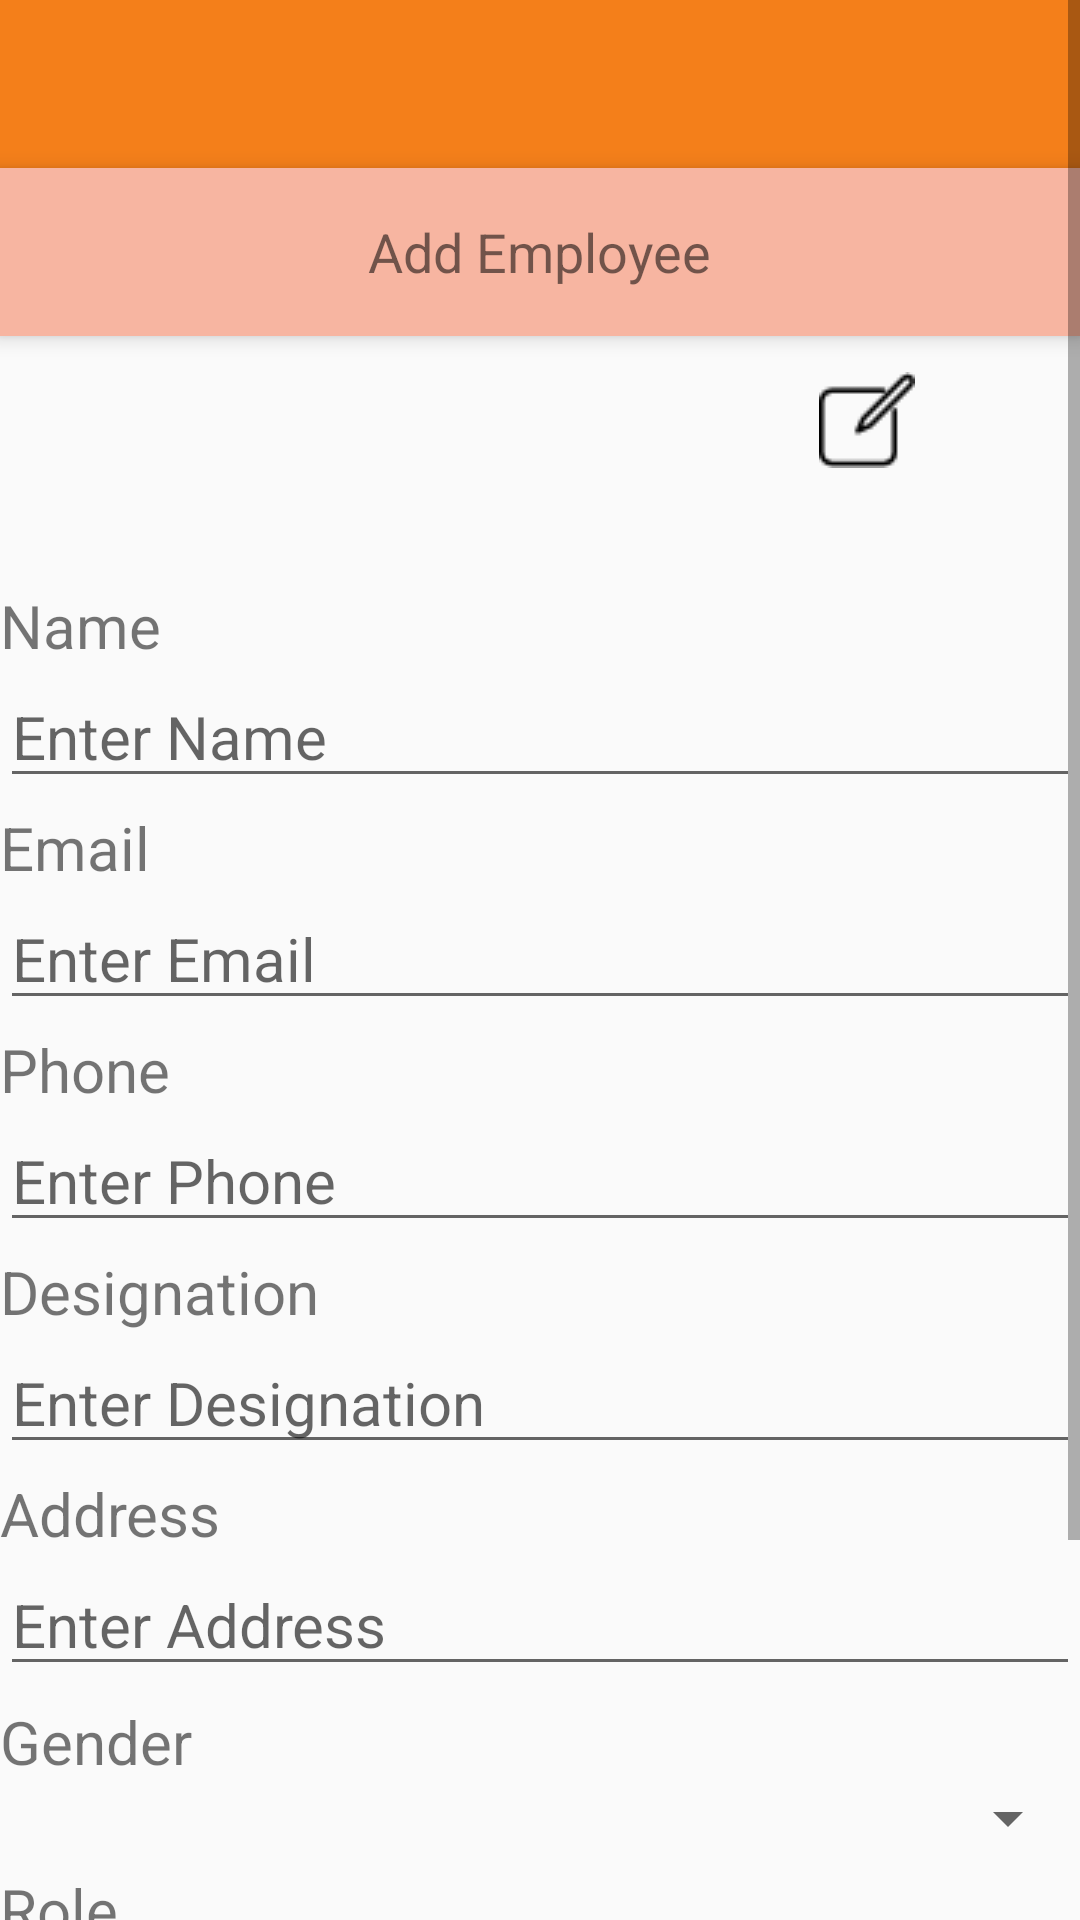

Icon bounding boxes for this 1080 × 1920 phone screenshot, format (x1, y1, x2, y2):
editbutton: (819, 372, 915, 468)
